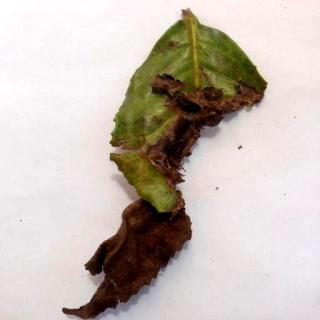Algal Leaf: (65, 11, 269, 320)
